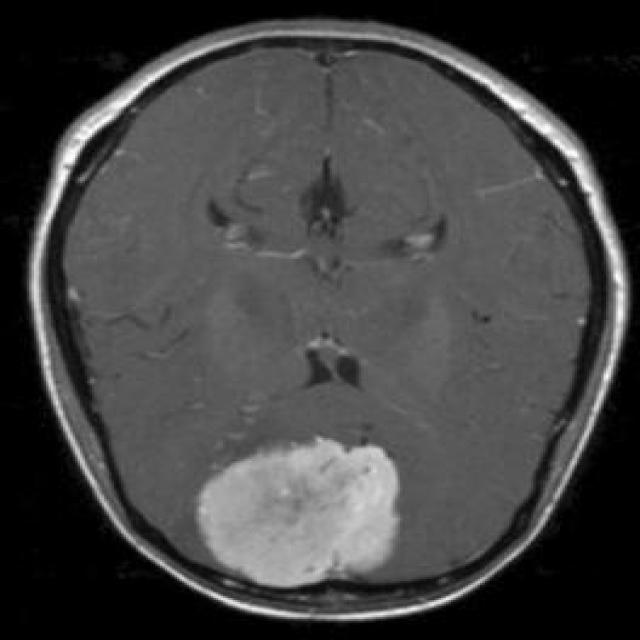Tumor-Cell: (195, 446, 414, 594)
